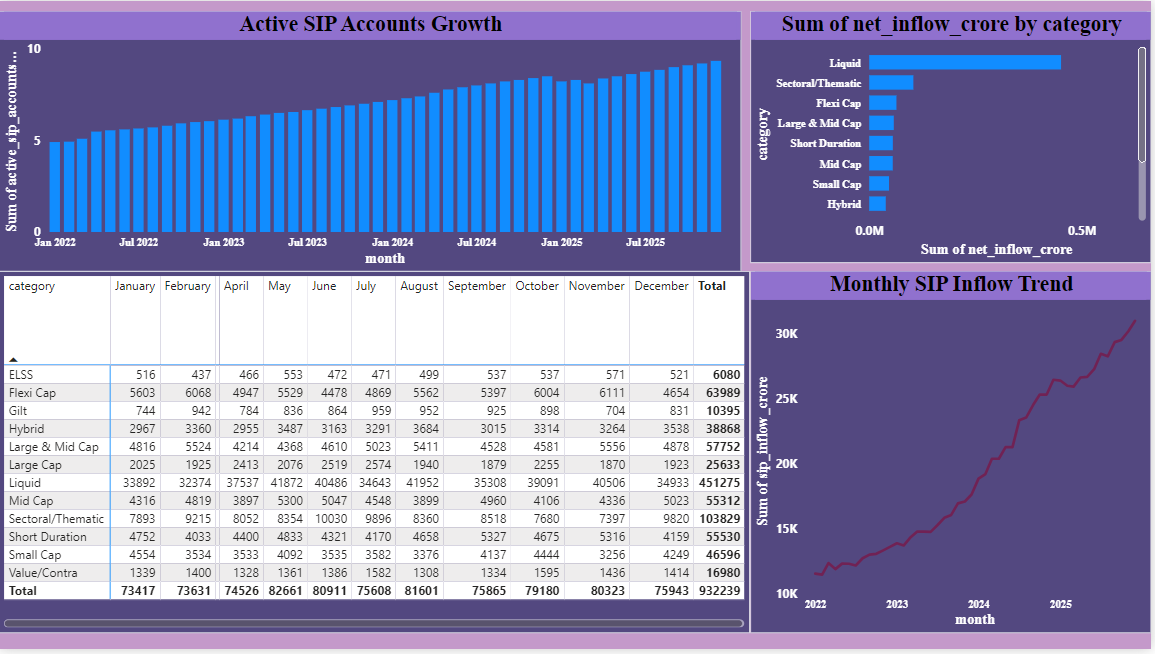

Layout of this report page (visuals, bound fields, positions):
{"tool":"powerbi","page":{"name":"SIP & Market Trends","canvas":[1280,720],"ordinal":3},"visuals":[{"type":"lineChart","title":"Monthly SIP Inflow Trend","fields":{"Category":["04_monthly_sip_inflows.month"],"Y":["Sum(04_monthly_sip_inflows.sip_inflow_crore)"]},"box":[834.3,300.5,446,402.1],"z":0},{"type":"columnChart","title":"Active SIP Accounts Growth","fields":{"Category":["04_monthly_sip_inflows.month"],"Y":["Sum(04_monthly_sip_inflows.active_sip_accounts_crore)"]},"box":[0,11,824.7,289.5],"z":1000},{"type":"pivotTable","title":"Category-wise Net Inflow Heatmap","fields":{"Rows":["05_category_inflows.category"],"Columns":["05_category_inflows.month.Variation.Date Hierarchy.Month"],"Values":["Sum(05_category_inflows.net_inflow_crore)"]},"box":[0,300.5,834.3,402.1],"z":2500},{"type":"clusteredBarChart","fields":{"Category":["05_category_inflows.category"],"Y":["Sum(05_category_inflows.net_inflow_crore)"]},"box":[834.3,11,446,279.9],"z":2501}]}

Visuals, with their boxes in screenshot pixels (x1, y1, x2, y2), scaled from the page's 1280x720 canvas onto the 1155x654 screenshot:
"Monthly SIP Inflow Trend" lineChart: locate(753, 273, 1154, 638)
"Active SIP Accounts Growth" columnChart: locate(0, 10, 744, 273)
"Category-wise Net Inflow Heatmap" pivotTable: locate(0, 273, 753, 638)
clusteredBarChart - 05_category_inflows.category x Sum(05_category_inflows.net_inflow_crore): locate(753, 10, 1154, 264)
